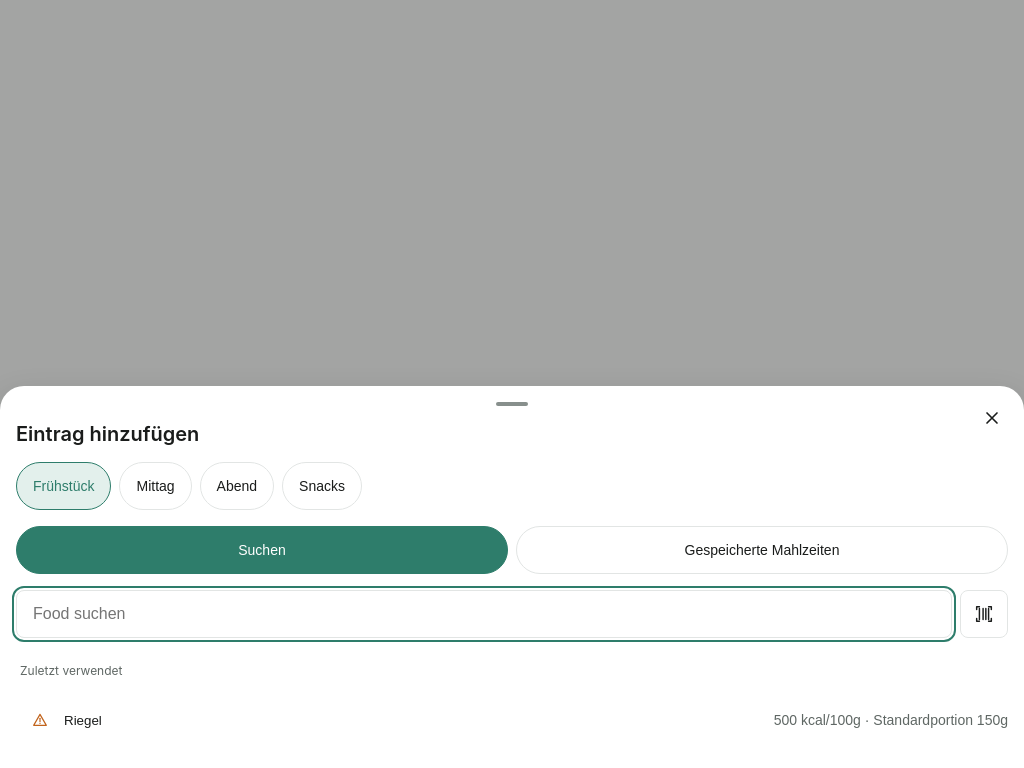
Test: FoodEntrySheetComponent › Step C — Nährwerte bearbeiten (Korrektur, ADR-0011 Punkt 6) › shows the plausibility banner with ALL findings and concrete numbers, not just the priorized one
Click the button with class "marker-button" at (40, 720), box [16,712,64,728]
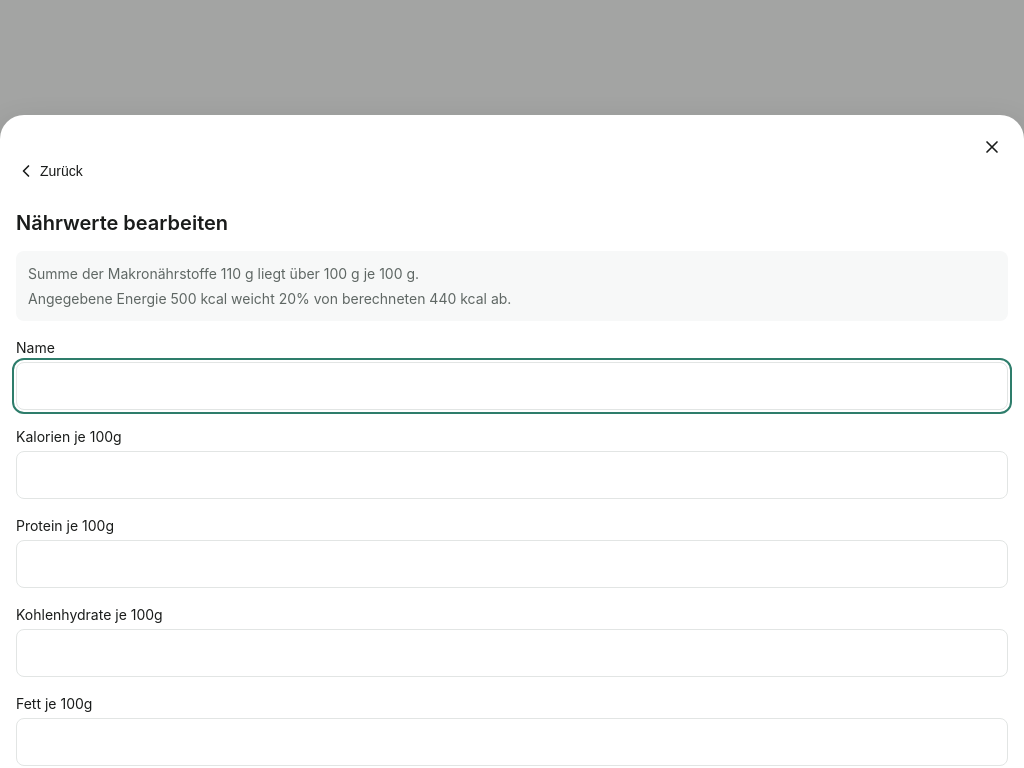
Check: the text "Summe der Makronährstoffe 110 g liegt über 100 g je 100 g." is shown, box [28,265,419,282]
Check: the text "20%" is shown, box [28,290,511,307]
